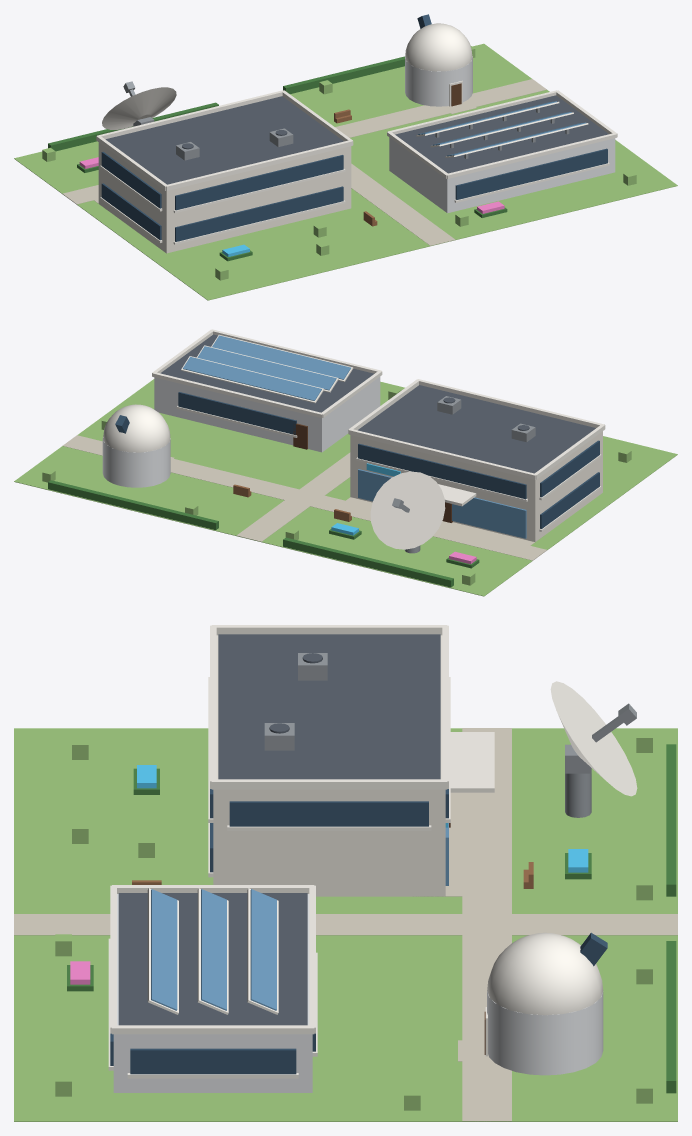
File: techpark.glb
3 renders of one model, top to bottom at view 1: azimuth 30°, elevation 25°; view 2: azimuth 150°, elevation 25°; view 3: azimuth 270°, elevation 25°, orthographic. The views are drawn at different scales.
Visible parts, largest first — view 1: lawn, roof (×2), window_band (×5), lab_a, parapet (×7), path (×2), lab_b, observatory_dome, observatory, hedge (×2), dish, sill (×3); view 2: lawn, roof (×2), path (×2), window_band (×4), parapet (×8), panel_glass (×3), lab_b, lab_a, dish, hedge (×2), storefront, observatory (+5 smaller); view 3: lawn, roof (×2), path (×2), lab_a, parapet (×8), window_band (×2), panel_glass (×3), lab_b, observatory_dome, observatory, dish, hedge (×2) (+5 smaller).
Part boxes in pixels (x1,y1,x2,y2): lawn: (14,43,677,300); roof (×2): (105,95,608,184); window_band (×5): (101,148,607,241); lab_a: (98,142,351,253); parapet (×7): (96,90,616,190); path (×2): (62,79,546,245); lab_b: (389,137,615,213); observatory_dome: (405,23,472,71); observatory: (405,56,472,106); hedge (×2): (48,56,404,151); dish: (102,87,176,129); sill (×3): (173,162,609,244); lawn: (14,379,677,596); roof (×2): (160,334,595,473); path (×2): (62,435,546,560); window_band (×4): (178,392,599,528); parapet (×8): (152,329,605,479); panel_glass (×3): (183,335,350,400); lab_b: (154,376,380,452); lab_a: (350,431,602,541); dish: (370,471,445,549); hedge (×2): (48,480,453,587); storefront: (358,469,526,538); observatory: (102,437,170,487); lawn: (14,728,677,1121); roof (×2): (118,634,440,1025); path (×2): (14,728,677,1121); lab_a: (213,635,445,896); parapet (×8): (110,625,448,1034); window_band (×2): (130,801,428,1074); panel_glass (×3): (151,889,276,1010); lab_b: (113,894,312,1092); observatory_dome: (487,932,603,1015); observatory: (487,991,603,1075); dish: (550,681,637,796); hedge (×2): (666,744,676,1093).
Size of the model in its own units: 56 by 8.5 by 40.
